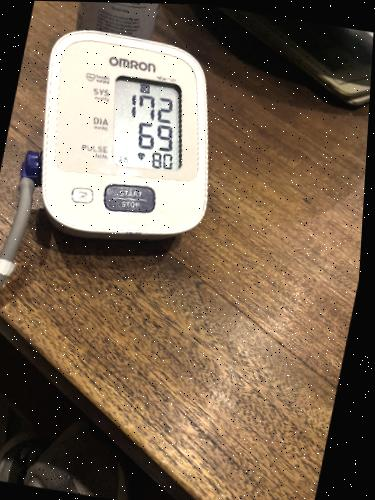bpm: (111, 73, 183, 172)
